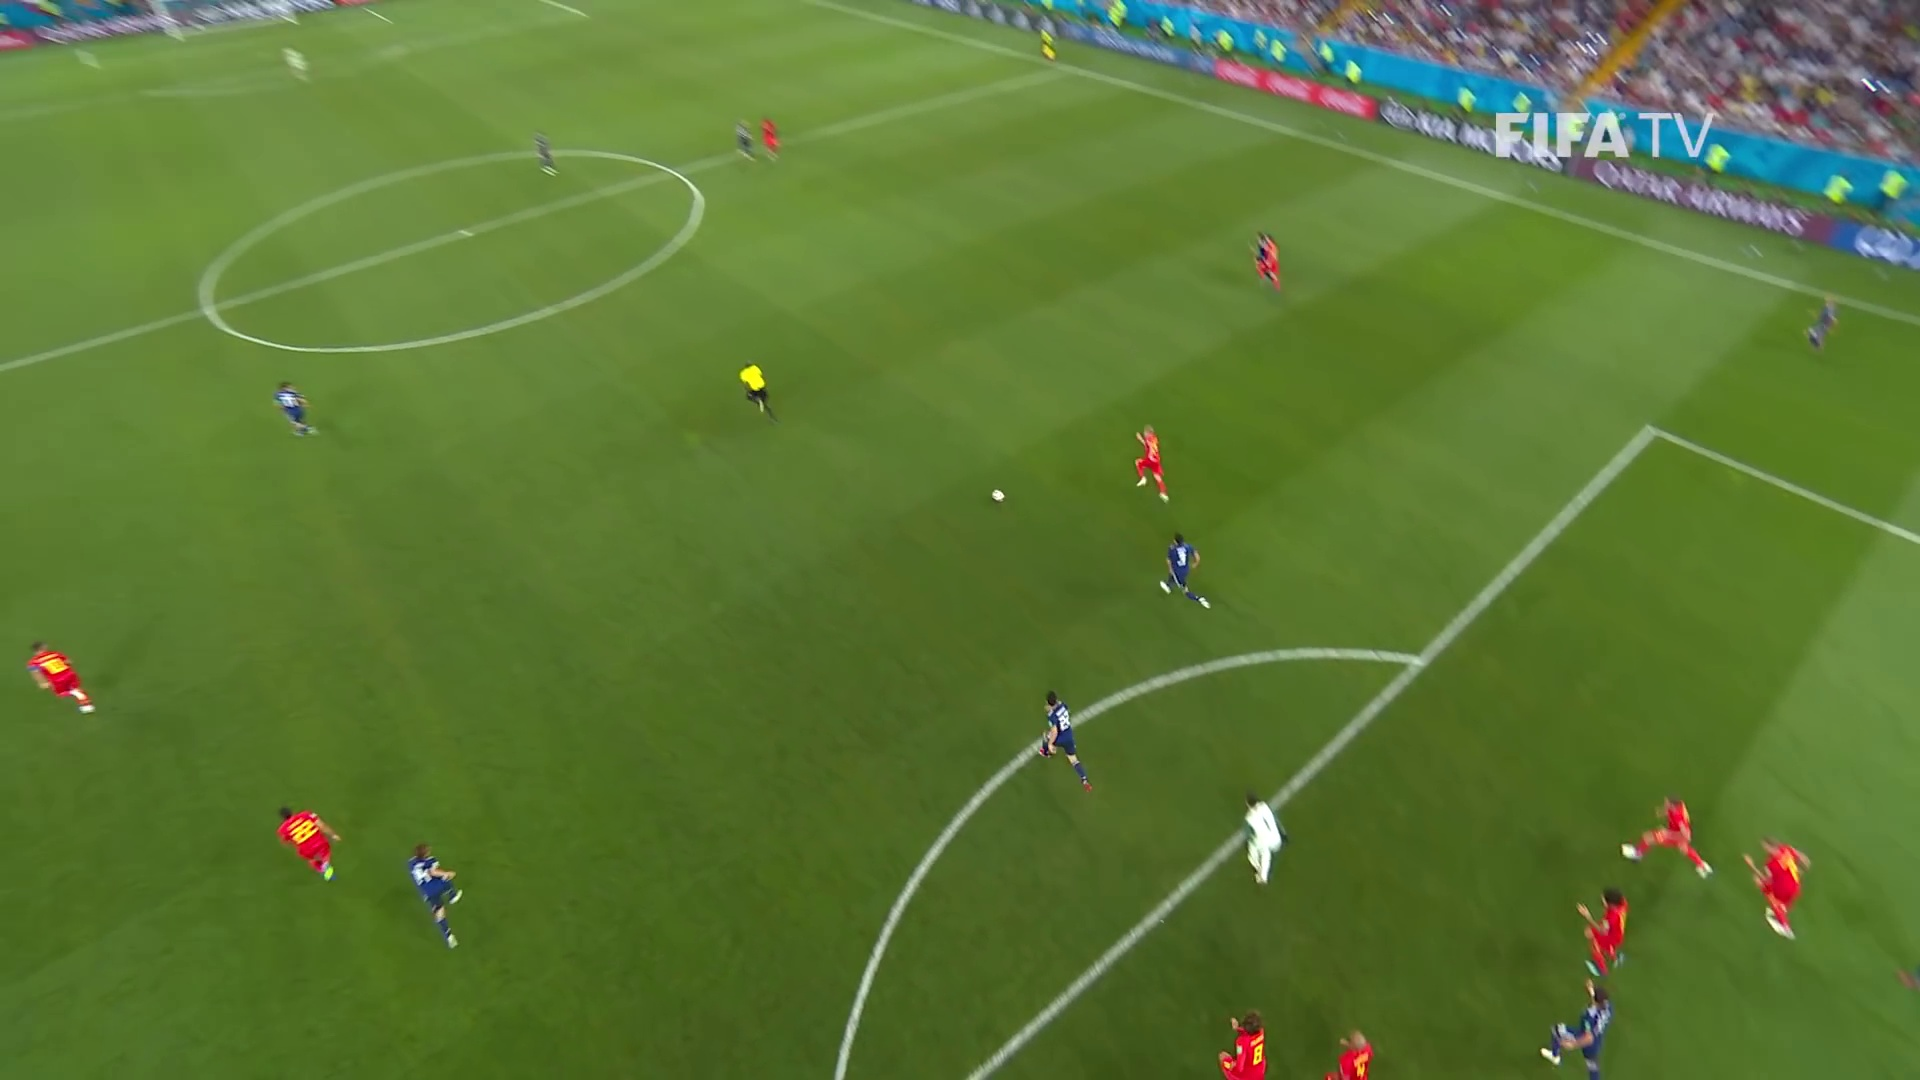ball: (991, 491, 1003, 504)
person: (1621, 794, 1715, 878), (1748, 833, 1808, 938), (1545, 978, 1607, 1077), (409, 848, 460, 951), (25, 645, 93, 716), (1041, 688, 1087, 787), (1576, 890, 1628, 975), (279, 813, 340, 881), (1242, 797, 1283, 888), (1160, 535, 1208, 610), (1222, 1014, 1266, 1076), (273, 381, 318, 438), (1134, 422, 1167, 499), (1328, 1029, 1377, 1080), (1254, 233, 1282, 283)
